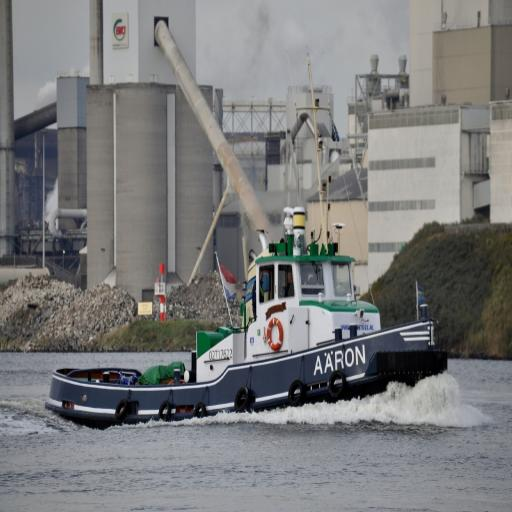tugboat: (42, 203, 452, 444)
